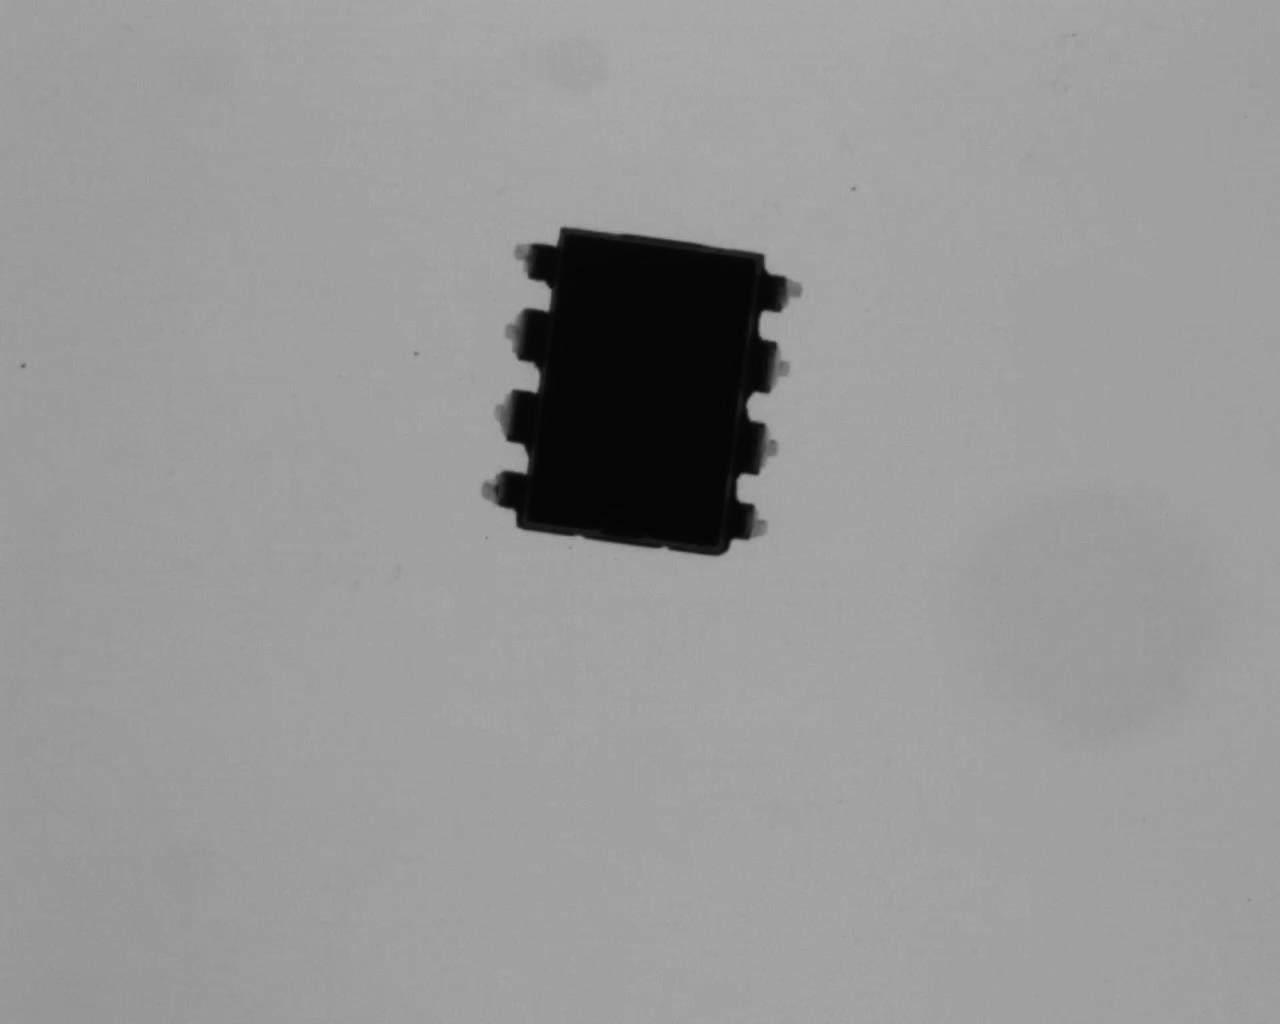Leg: (482, 381, 535, 455), (502, 301, 551, 370), (735, 414, 783, 479), (508, 233, 559, 292), (753, 331, 796, 400), (476, 464, 529, 517), (761, 263, 808, 319), (725, 498, 773, 548)
